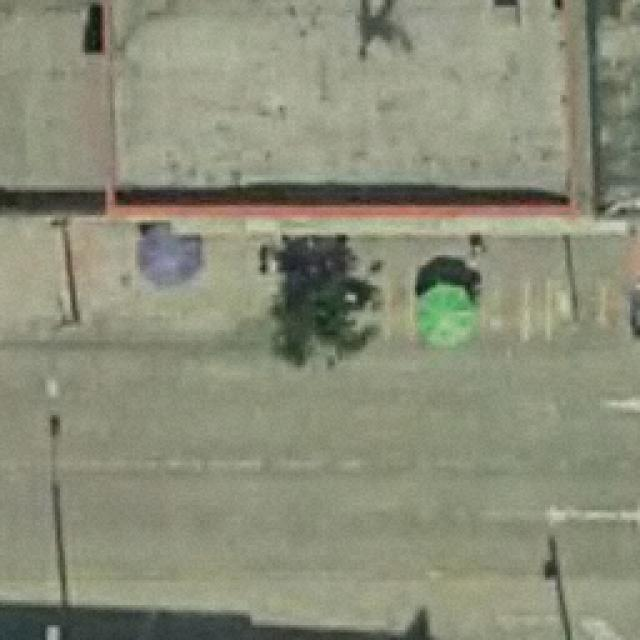vendedor_ambulante: (409, 276, 485, 353), (131, 217, 209, 291)
